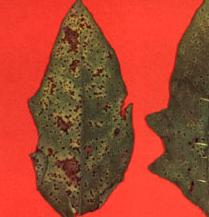Tomato Septoria leaf spot: (22, 0, 135, 217), (144, 0, 209, 217)
